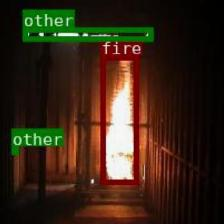fire: (99, 54, 138, 184)
